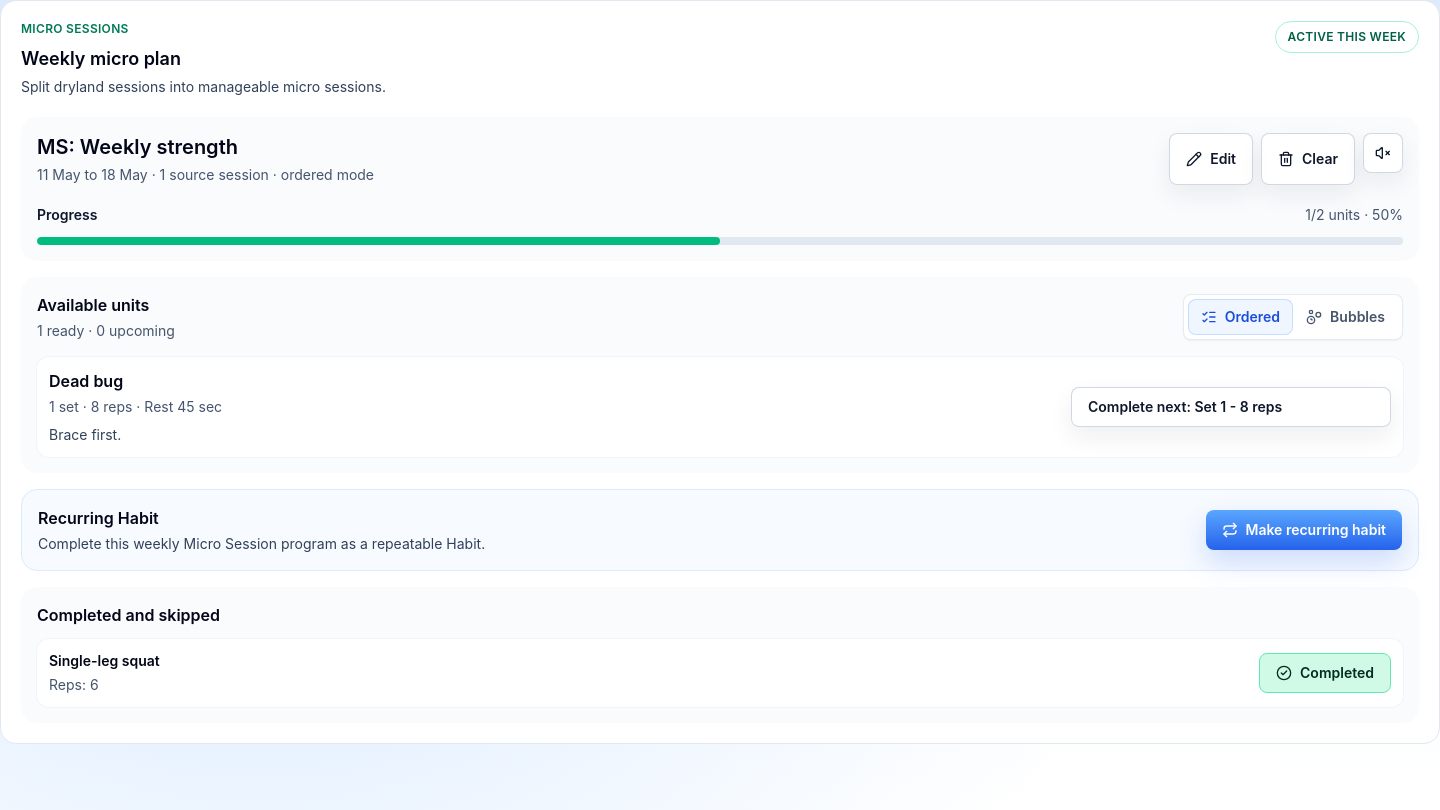
Test case: DrylandMicroPlanPanel › creates a recurring Habit link from the active micro session
Click the button with test id "dryland-micro-open-habit-link" at (1304,530), box [1206,510,1402,550]
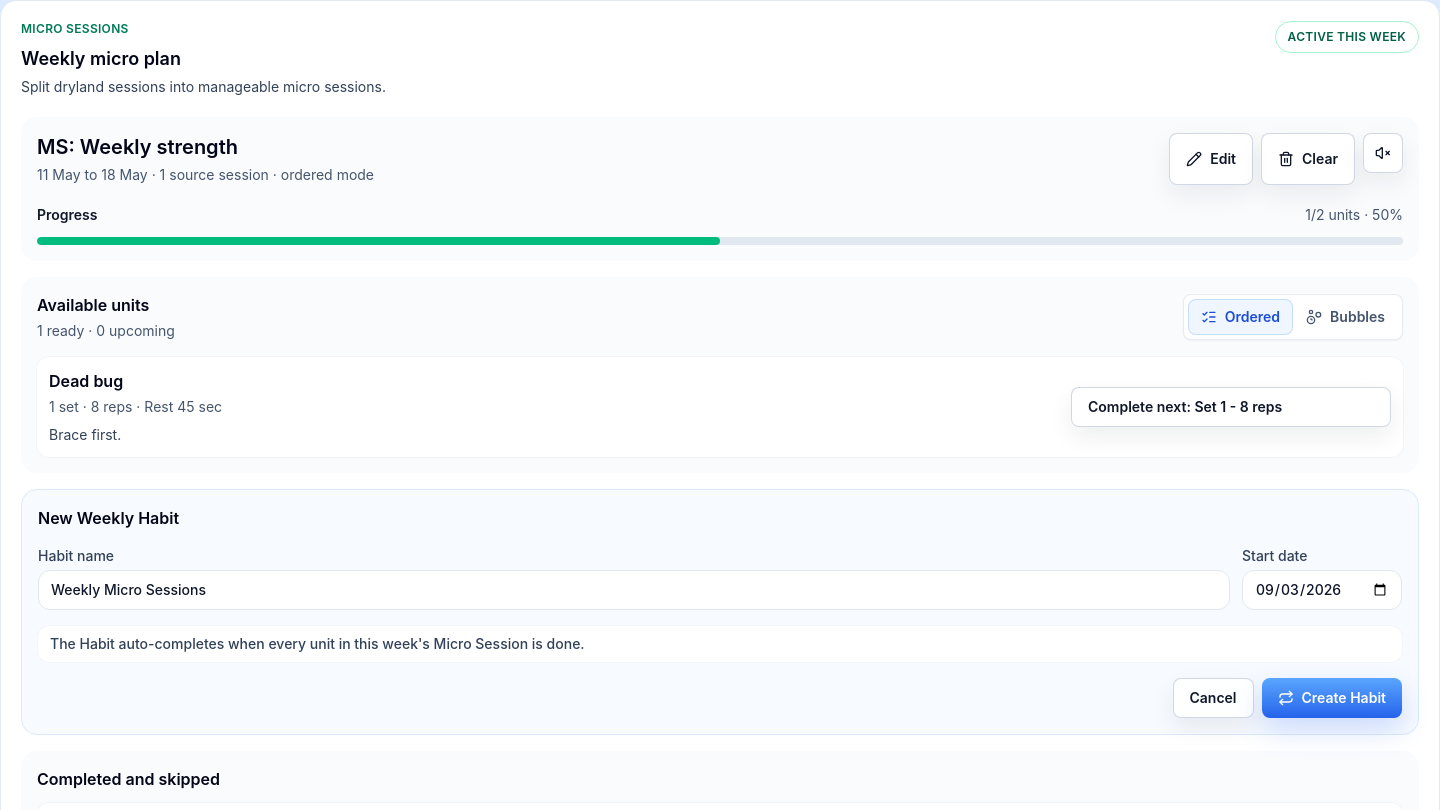
Now the element with test id "dryland-micro-habit-link-form" is shown, box [21,489,1419,735]
Now the field labelled "Habit name" holds "Weekly Micro Sessions", box [38,570,1230,610]
Now the heading "New Weekly Habit" is shown, box [38,508,179,528]
Click the button with test id "dryland-micro-create-habit-link" at (1332,698), box [1262,678,1402,718]
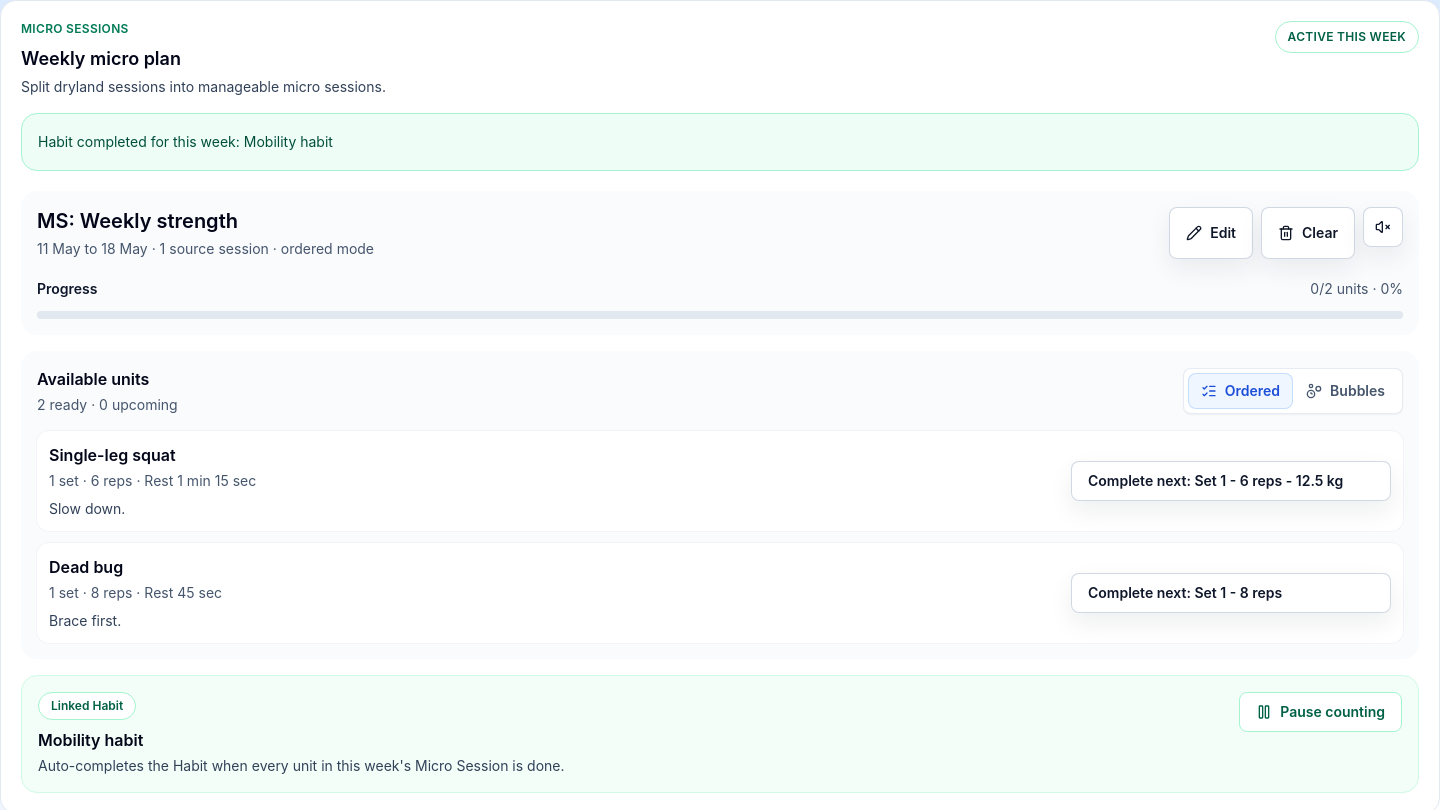
Now the element with test id "dryland-micro-habit-link-status" shows "Linked Habit", box [51,698,123,713]
Now the element with test id "dryland-micro-habit-link-status" shows "Mobility habit", box [38,730,143,750]
